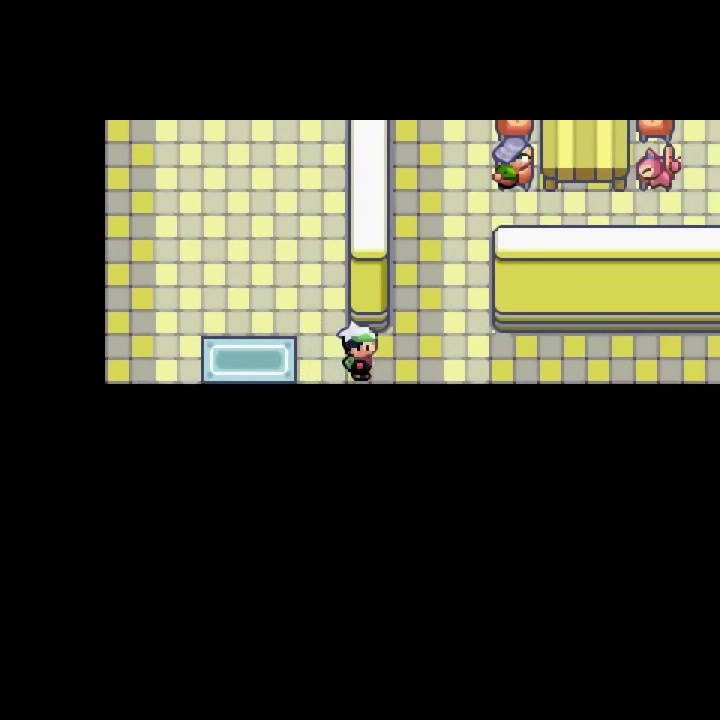exit: (198, 331, 299, 447)
npc: (336, 320, 380, 382), (490, 134, 536, 193)
